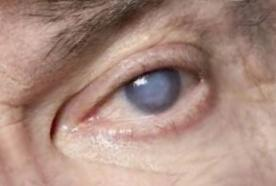eye: (125, 66, 183, 117)
